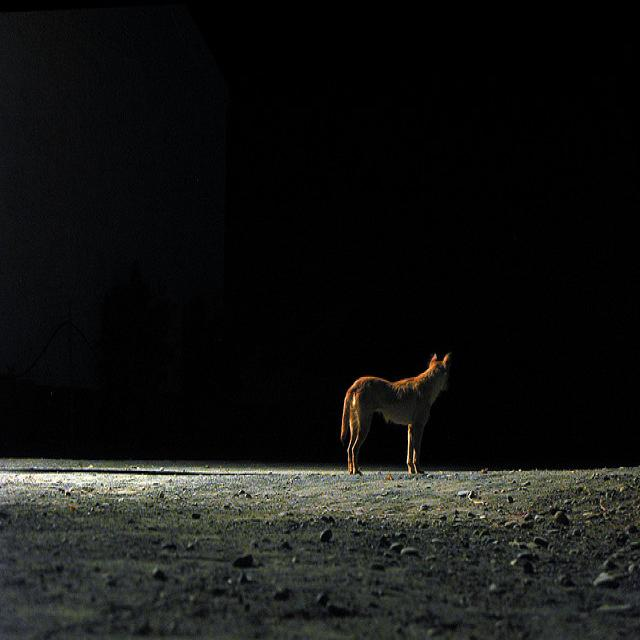Dog: (330, 330, 462, 491)
